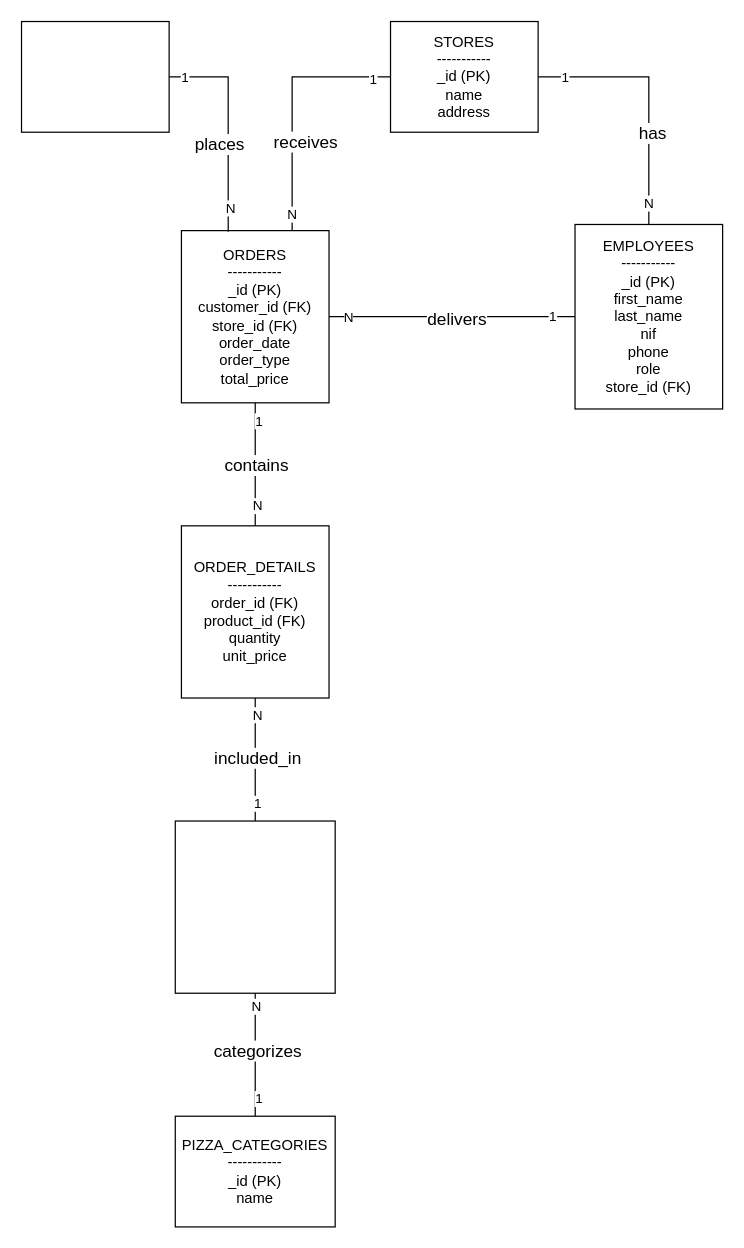
Image size: 744x1248. Some labels were removed from this diagram. The shapes that lost their labels are listed below. From the top down, each one's centre as x and y in pixels, then its label:
At [94,76]: "CUSTOMERS ----------- _id (PK) name phone".
At [254,906]: "PRODUCTS ----------- _id (PK) name description price type category_id (FK)".
